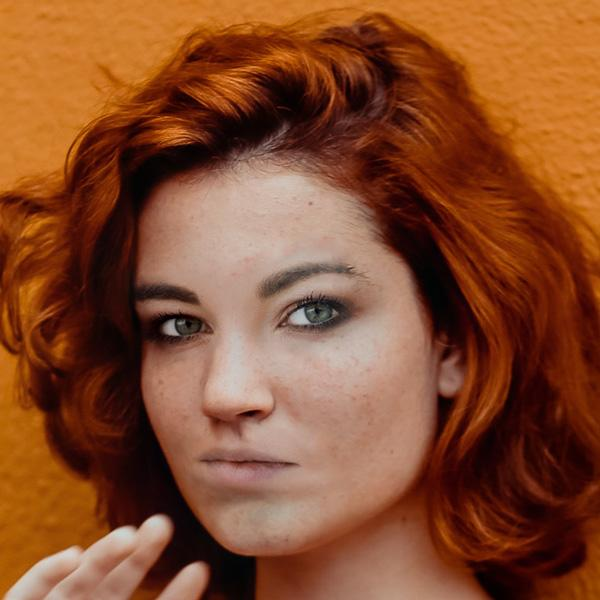Eyes: (265, 290, 356, 344), (138, 302, 220, 353)
